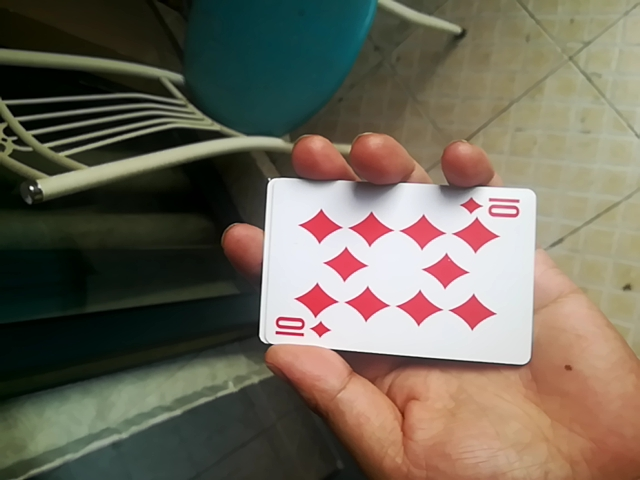fk 10: (260, 184, 541, 353)
